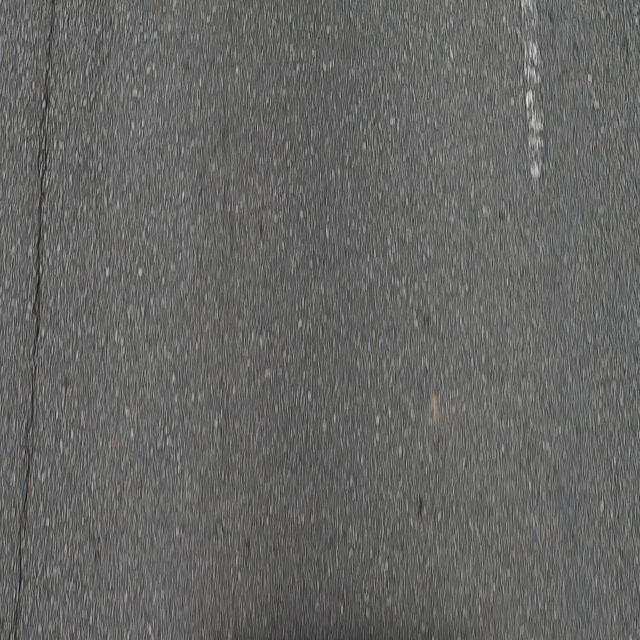Retak-Memanjang: (8, 0, 61, 640)
